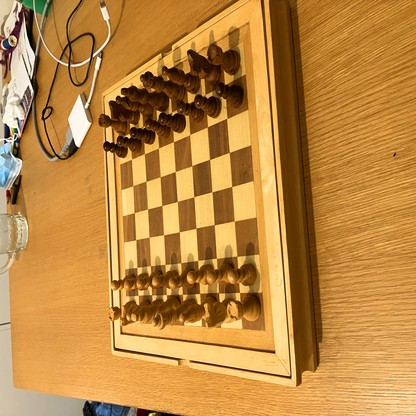bishop_black: (162, 67, 201, 93), (116, 96, 153, 116)
king_black: (121, 88, 169, 110)
knight_black: (187, 48, 221, 80), (109, 100, 139, 123)
knight_white: (204, 301, 227, 327)
pawn_black: (216, 83, 243, 107), (177, 99, 204, 121), (159, 113, 186, 132), (195, 96, 220, 116), (130, 127, 156, 143), (116, 136, 141, 152), (144, 121, 169, 136), (103, 143, 126, 157)
pawn_white: (207, 264, 234, 286), (229, 264, 256, 285), (186, 265, 212, 285), (169, 270, 193, 288), (153, 275, 176, 288), (137, 276, 150, 290), (124, 279, 137, 291), (111, 279, 126, 289)
queen_black: (140, 72, 185, 100)
rock_black: (208, 44, 240, 73), (99, 112, 127, 133)
rock_white: (227, 294, 260, 320), (109, 307, 120, 321)
